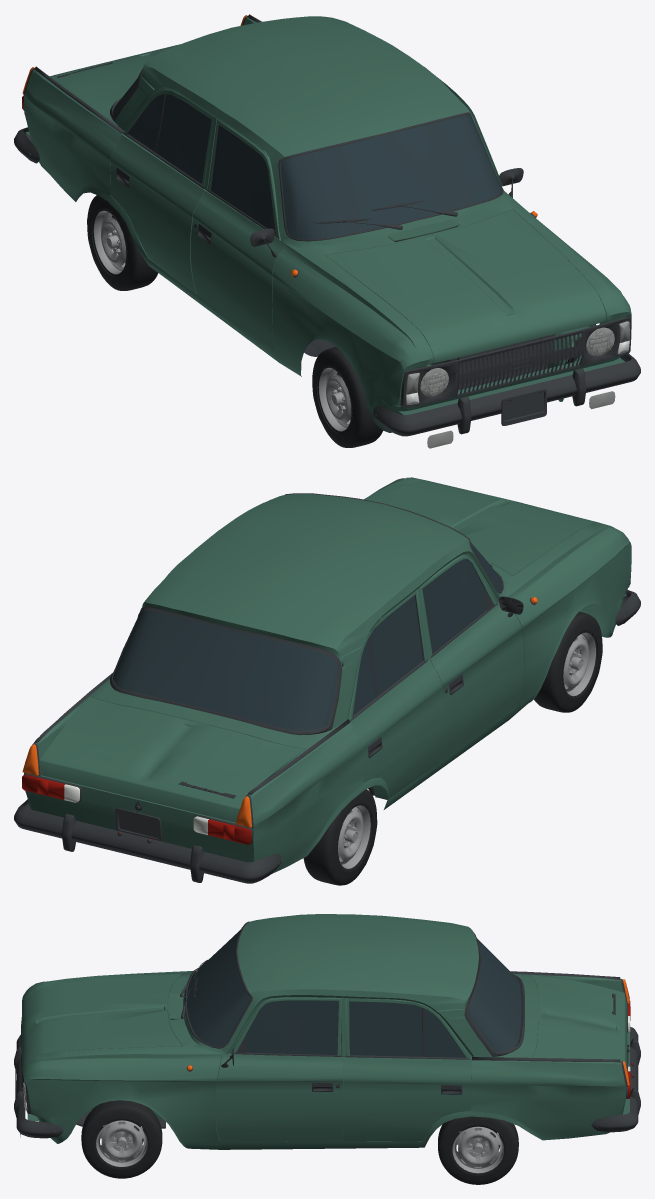
Rendered from izh412.glb.
3 renders of one model, top to bottom at view 1: azimuth 30°, elevation 25°; view 2: azimuth 150°, elevation 25°; view 3: azimuth 270°, elevation 25°, orthographic. The views are drawn at different scales.
Visible parts, largest first — view 1: chassisbody, glass, chassis_trim, wheel_fr, wheel_rr, front_auxiliary; view 2: chassisbody, glass, chassis_trim, wheel_fr, wheel_rr, brake_lights; view 3: chassisbody, glass, chassis_trim, wheel_fl, wheel_rl.
Boxes of the visible parts, box(x1,y1,x2,y2) form: chassisbody: box(24, 16, 631, 432); glass: box(113, 78, 502, 239); chassis_trim: box(14, 14, 640, 436); wheel_fr: box(312, 347, 383, 447); wheel_rr: box(87, 195, 158, 290); front_auxiliary: box(406, 321, 629, 448); chassisbody: box(24, 477, 631, 873); glass: box(113, 542, 502, 730); chassis_trim: box(14, 493, 640, 883); wheel_fr: box(534, 611, 602, 712); wheel_rr: box(303, 789, 377, 885); brake_lights: box(37, 777, 235, 841); chassisbody: box(22, 914, 629, 1149); glass: box(186, 929, 521, 1057); chassis_trim: box(14, 921, 640, 1138); wheel_fl: box(81, 1100, 162, 1178); wheel_rl: box(438, 1116, 518, 1184).
Size of the model in its own units: 1.83 by 1.58 by 4.58.
